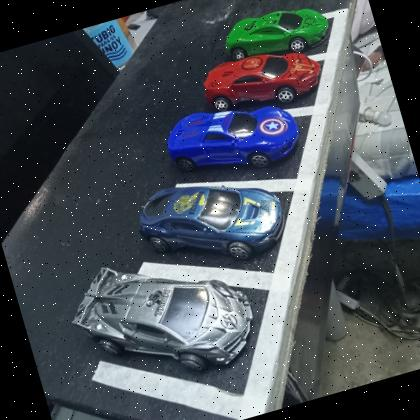Car: (57, 228, 266, 405), (126, 156, 294, 286), (158, 86, 308, 190), (197, 34, 329, 123), (216, 0, 333, 69)
